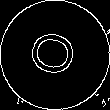O_E: (25, 28, 85, 83)
